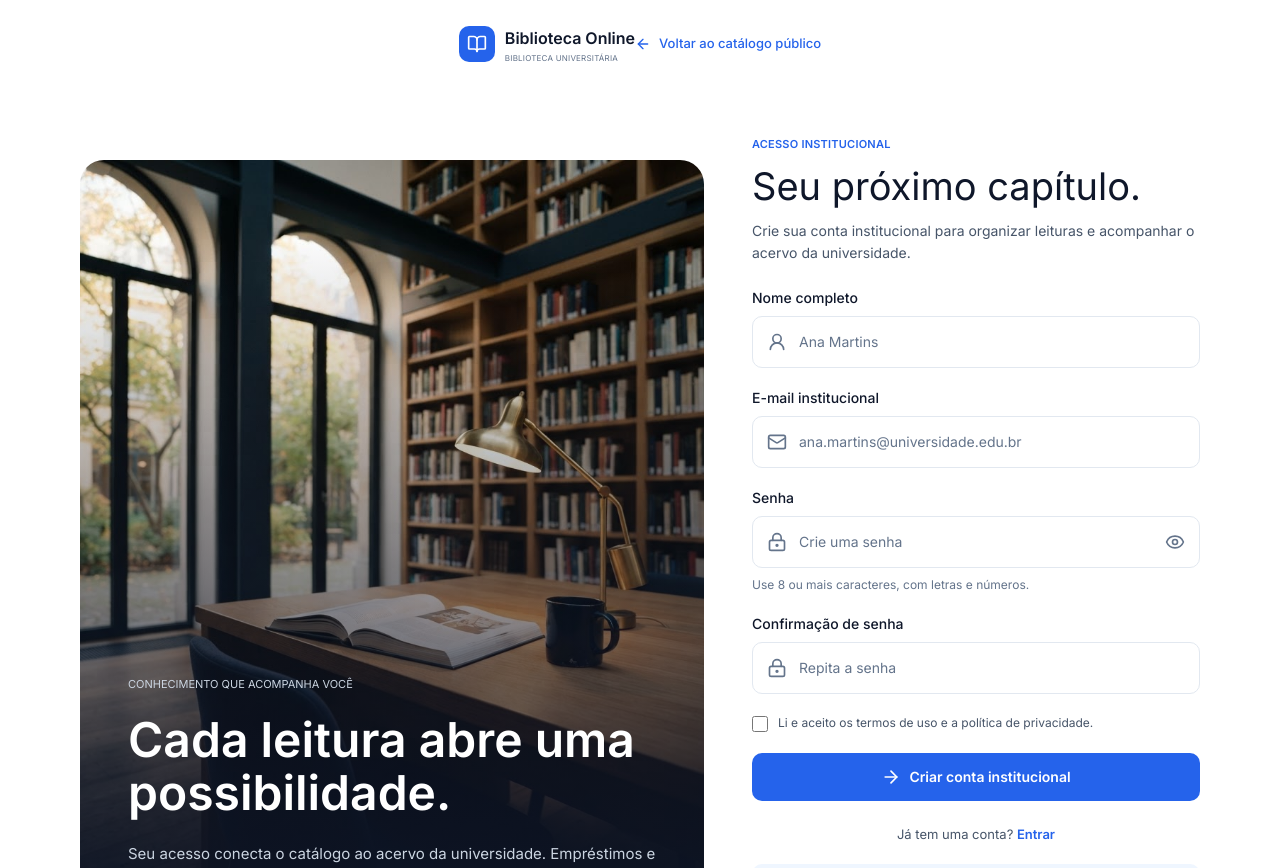
Test case: valida cadastro antes de enviar
Type "Ana" into the field labelled "Nome completo".
click(992, 342); type("Ana")  # box [799, 332, 1185, 352]
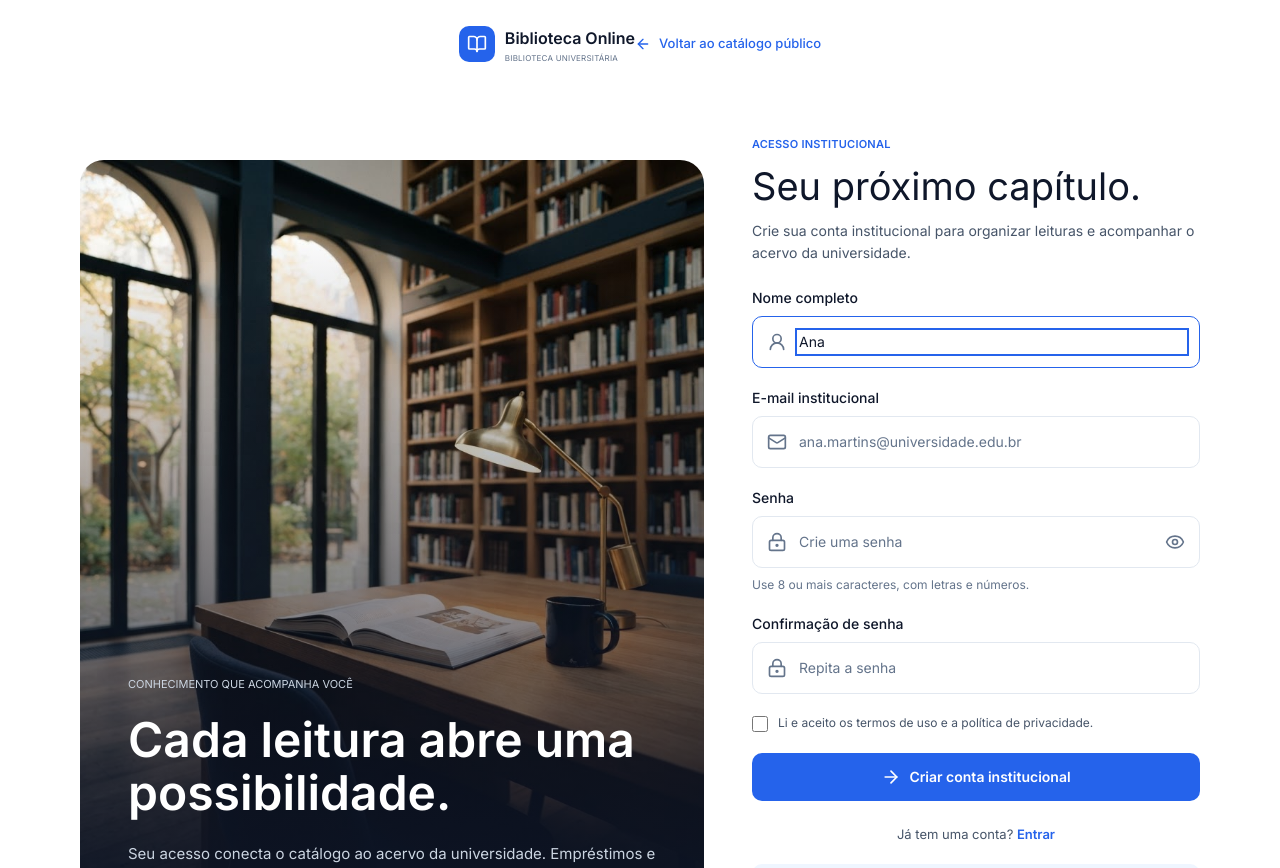
Type "ana@example.com" into the field labelled "E-mail institucional".
click(992, 442); type("ana@example.com")  # box [799, 432, 1185, 452]
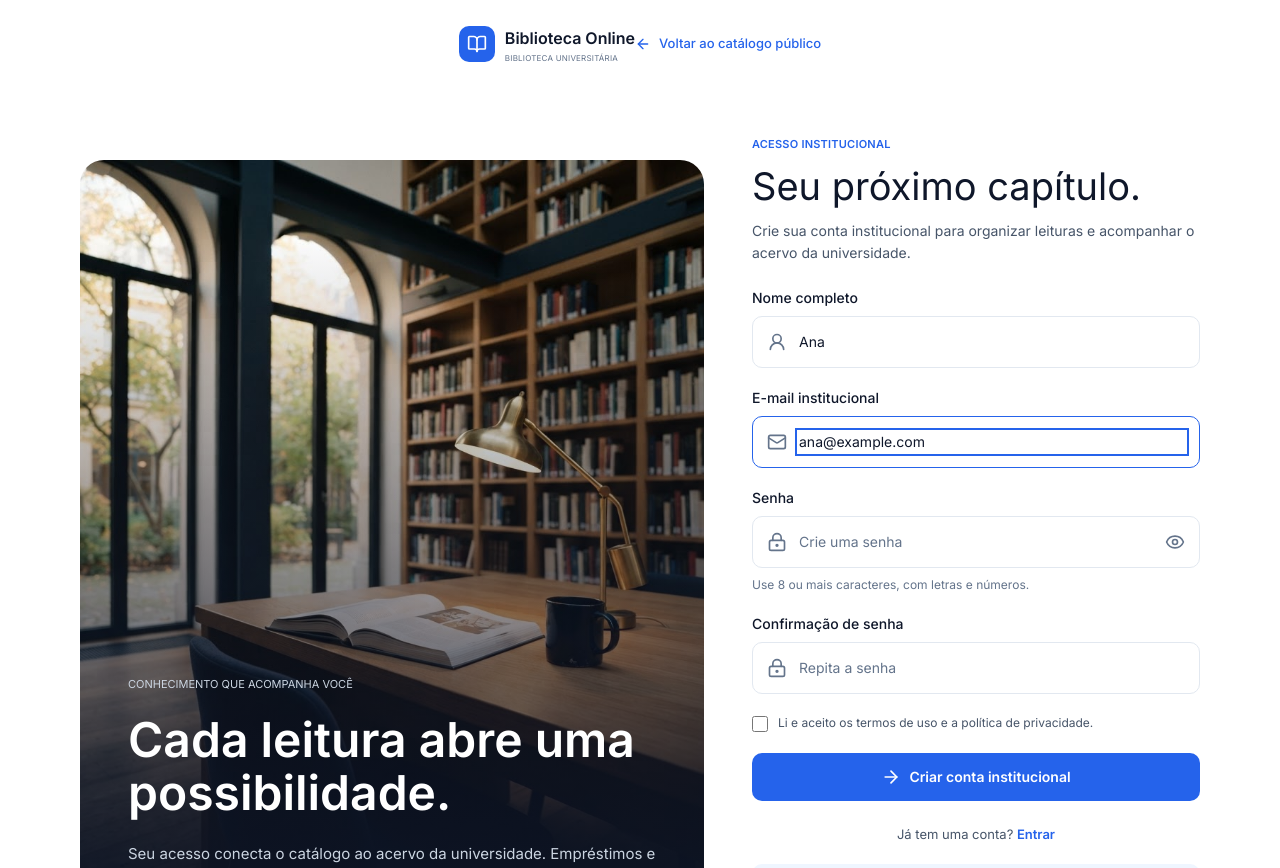
Type "curta" into the password field with placeholder "Crie uma senha".
click(976, 542); type("curta")  # box [799, 532, 1153, 552]
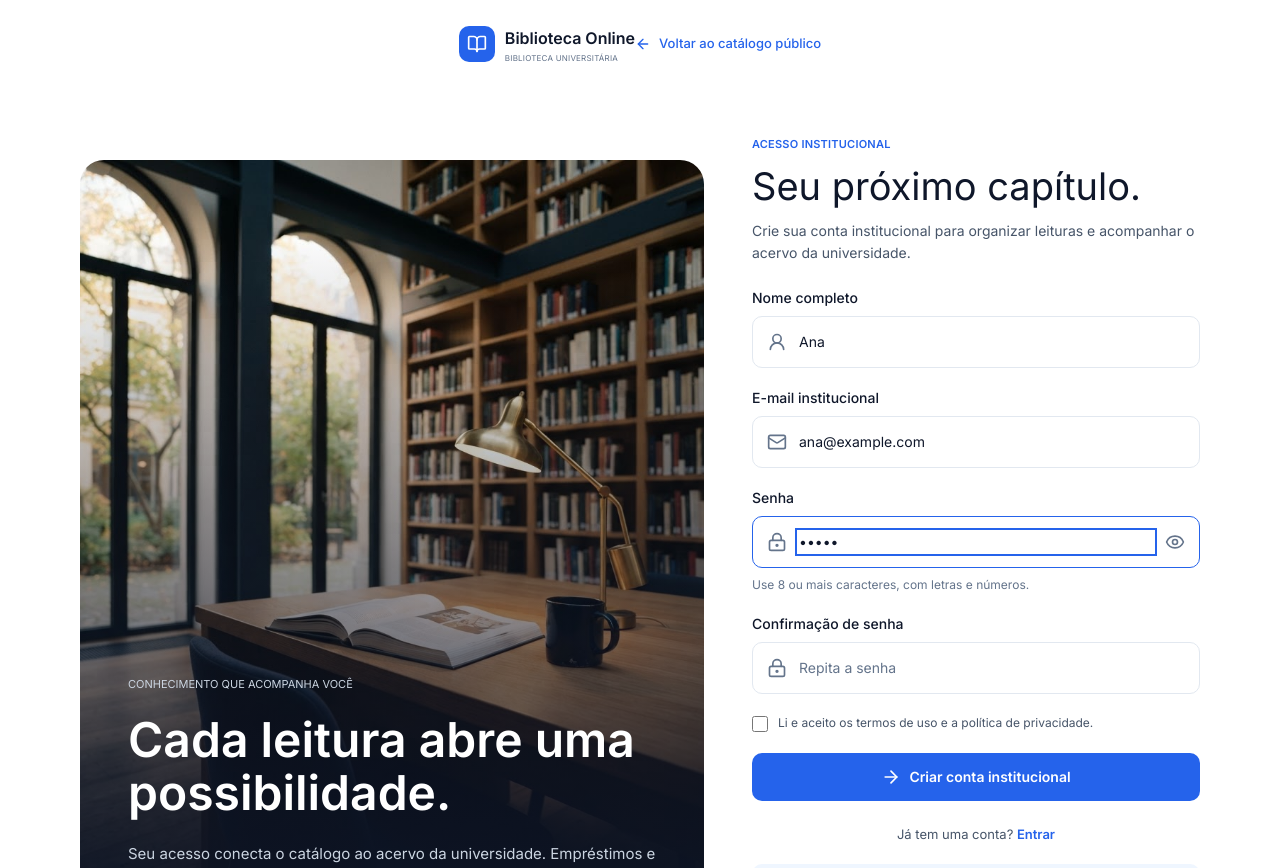
Type "outra" into the password field labelled "Confirmação de senha".
click(992, 668); type("outra")  # box [799, 658, 1185, 678]
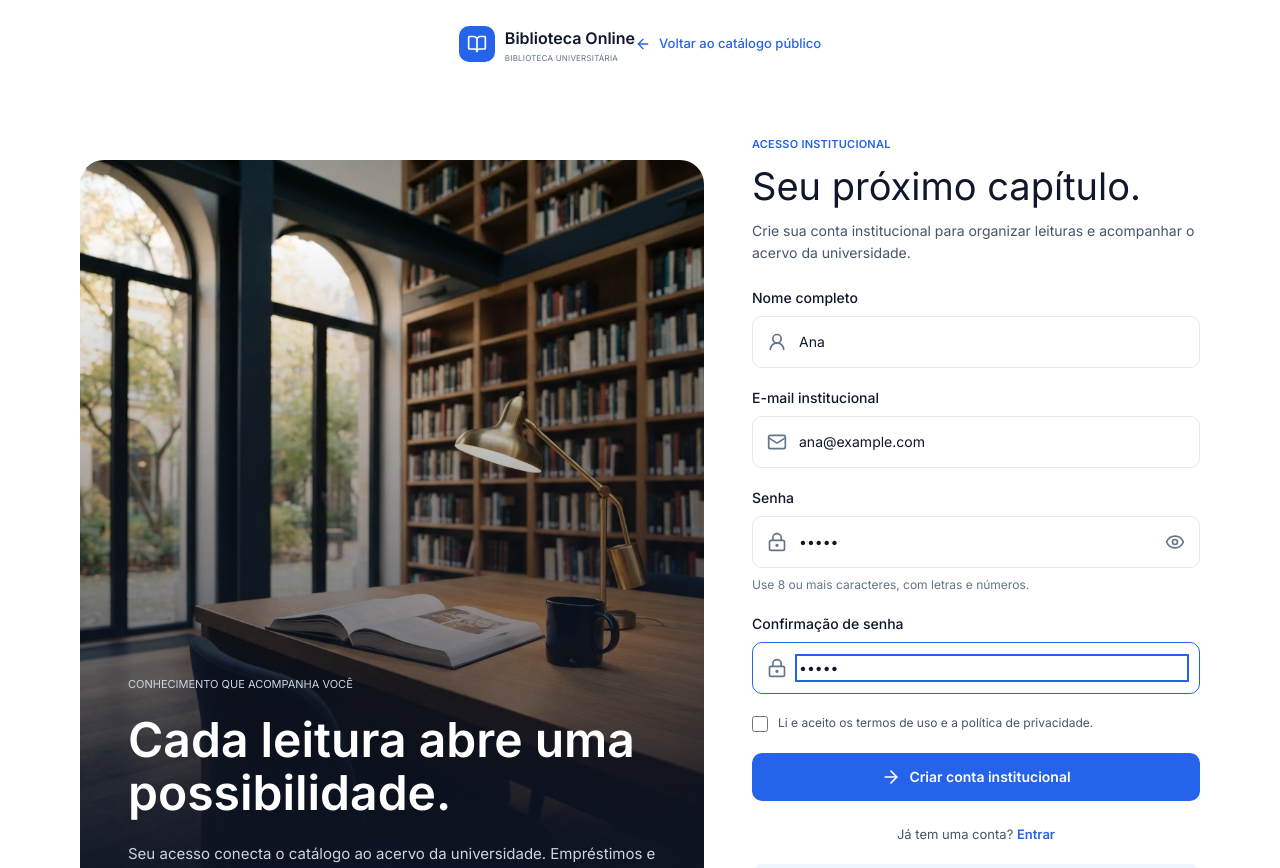
Click the button "Criar conta institucional".
click(976, 777)  # box [752, 753, 1200, 801]
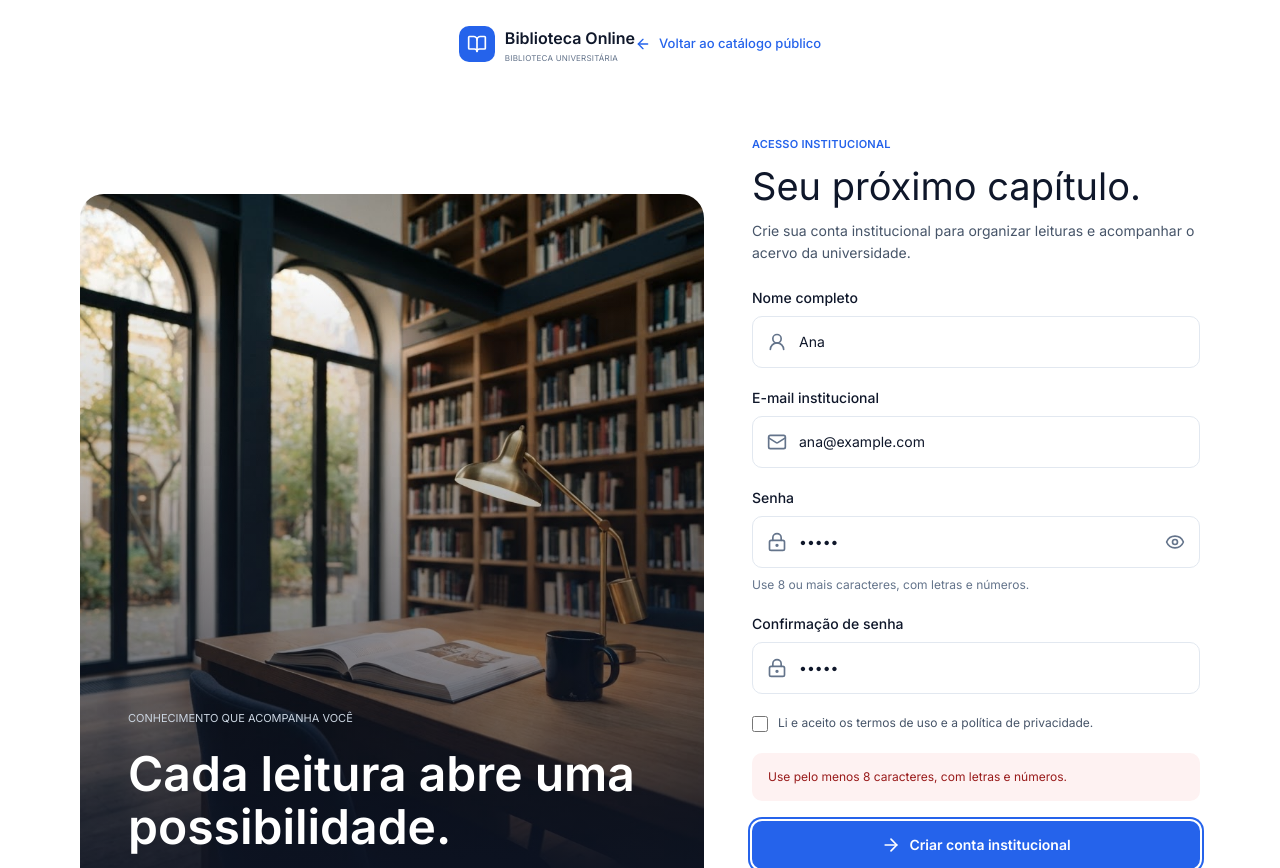
Check: the message shows "8 caracteres", box [768, 769, 1067, 784]
